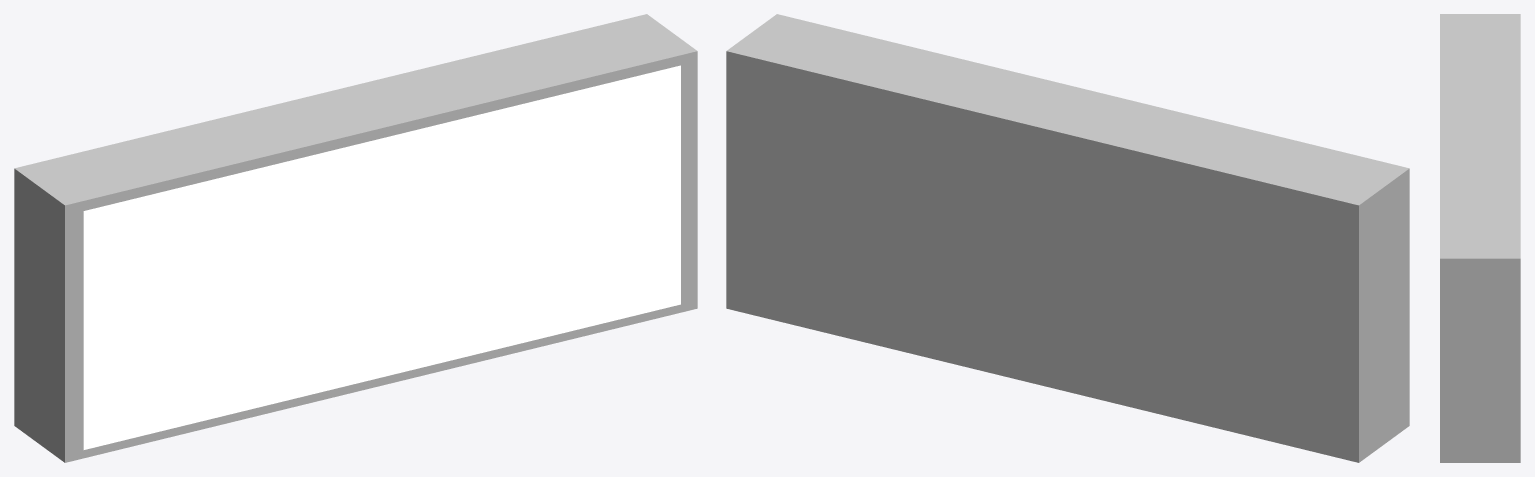
File: exit_sign.glb
3 renders of one model, left to right at view 1: azimuth 30°, elevation 25°; view 2: azimuth 150°, elevation 25°; view 3: azimuth 270°, elevation 25°, orthographic. The views are drawn at different scales.
Parts seen in each view (by area): view 1: exit_face, exit_body; view 2: exit_body; view 3: exit_body.
Boxes of the visible parts, x1,y1,x2,y2 form: exit_face: [83, 65, 680, 449]; exit_body: [14, 14, 697, 462]; exit_body: [726, 14, 1409, 462]; exit_body: [1440, 14, 1520, 462].
Size of the model in its own units: 0.36 by 0.14 by 0.051.
Materials: 2 (1 with a texture image).
